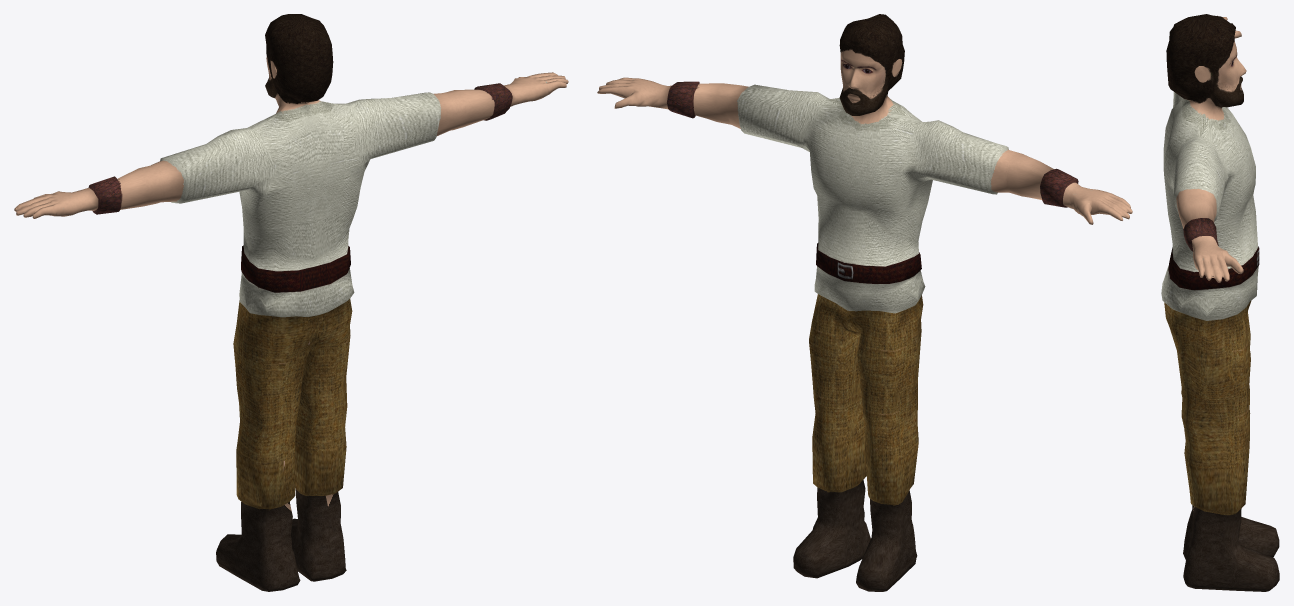
File: lumberJack.obj
3 views of the same model, side by side, from view 1: azimuth 30°, elevation 25°; view 2: azimuth 150°, elevation 25°; view 3: azimuth 270°, elevation 25° (orthographic). The views are drawn at different scales.
Parts seen in each view (by area): view 1: lumberJack; view 2: lumberJack; view 3: lumberJack.
Part boxes in pixels (x1,y1,x2,y2): lumberJack: [14, 14, 568, 591]; lumberJack: [597, 14, 1132, 591]; lumberJack: [1161, 14, 1279, 591].
Size of the model in its own units: 46.5 by 45.19 by 8.79.
Materials: 1 (1 with a texture image).
